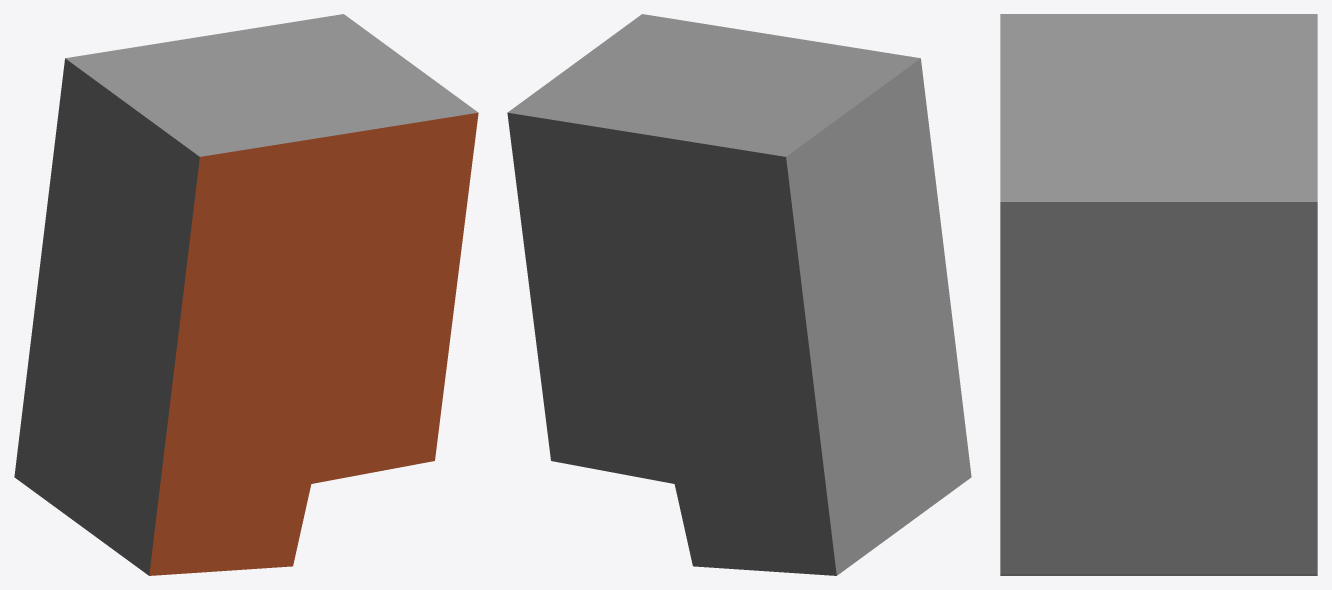
The model's file is construction_4478_assumed_A_Casa_h6m.obj.
The picture shows the model from 3 angles, left to right: view 1: azimuth 30°, elevation 25°; view 2: azimuth 150°, elevation 25°; view 3: azimuth 270°, elevation 25°; orthographic projection. The views are drawn at different scales.
Visible parts, largest first — view 1: construction_4478_assumed_A_Casa; view 2: construction_4478_assumed_A_Casa; view 3: construction_4478_assumed_A_Casa.
Part boxes in pixels (x1,y1,x2,y2): construction_4478_assumed_A_Casa: (14,14,478,575); construction_4478_assumed_A_Casa: (507,14,971,575); construction_4478_assumed_A_Casa: (1000,14,1317,575).
Bounding box in the file's own units: 8.46 × 10.61 × 6.
